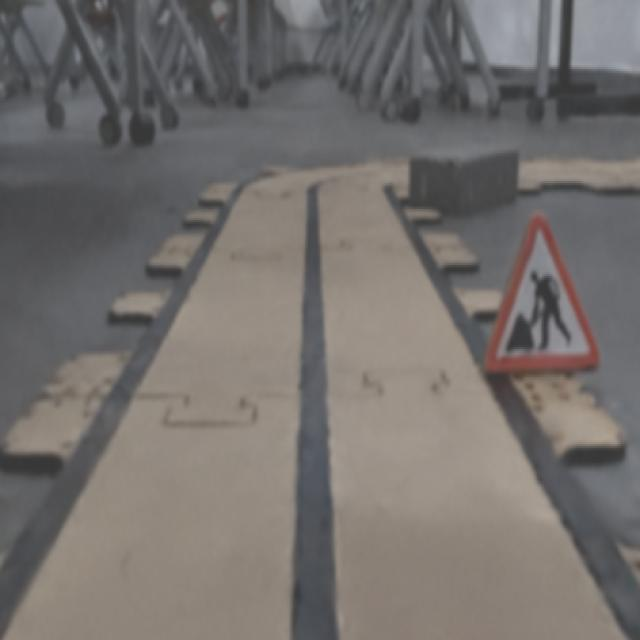WORKERS: (484, 215, 598, 371)
